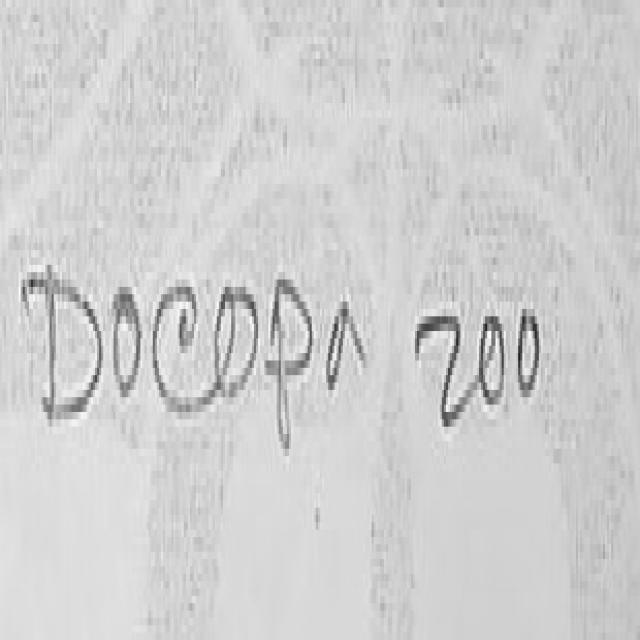0: (481, 316, 506, 401), (520, 309, 541, 394)
2: (417, 316, 481, 423)
D: (21, 265, 101, 416)
a: (328, 302, 365, 386)
c: (153, 287, 219, 412)
o: (215, 287, 260, 394), (114, 287, 140, 394)
p: (266, 280, 314, 445)
